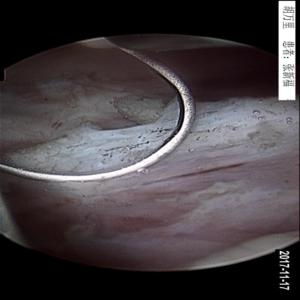film: (129, 156, 255, 186)
